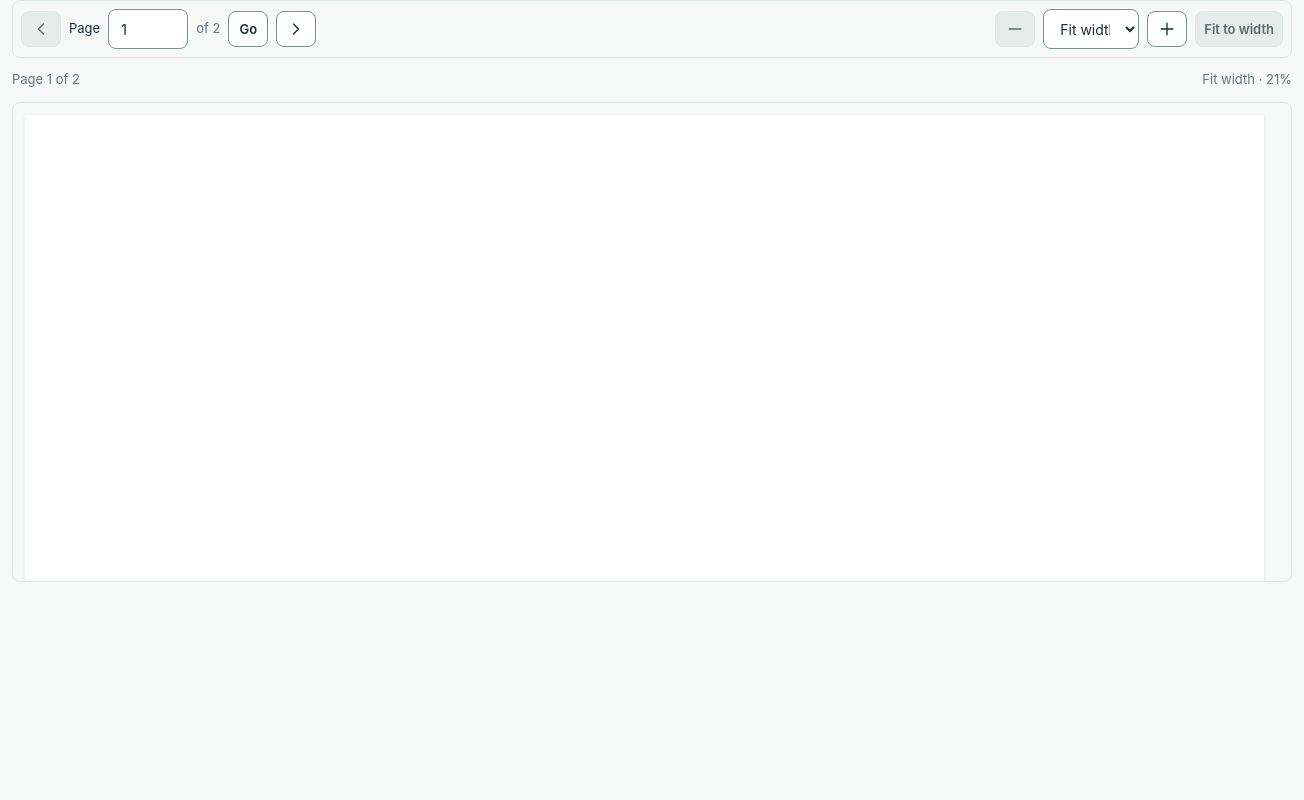
PDF page reader › keeps bitmap dimensions bounded at 200% visual zoom on a large page
Select "200%" in the dropdown named "Zoom level" at (1091, 29), box left=1043, top=9, right=1139, bottom=49
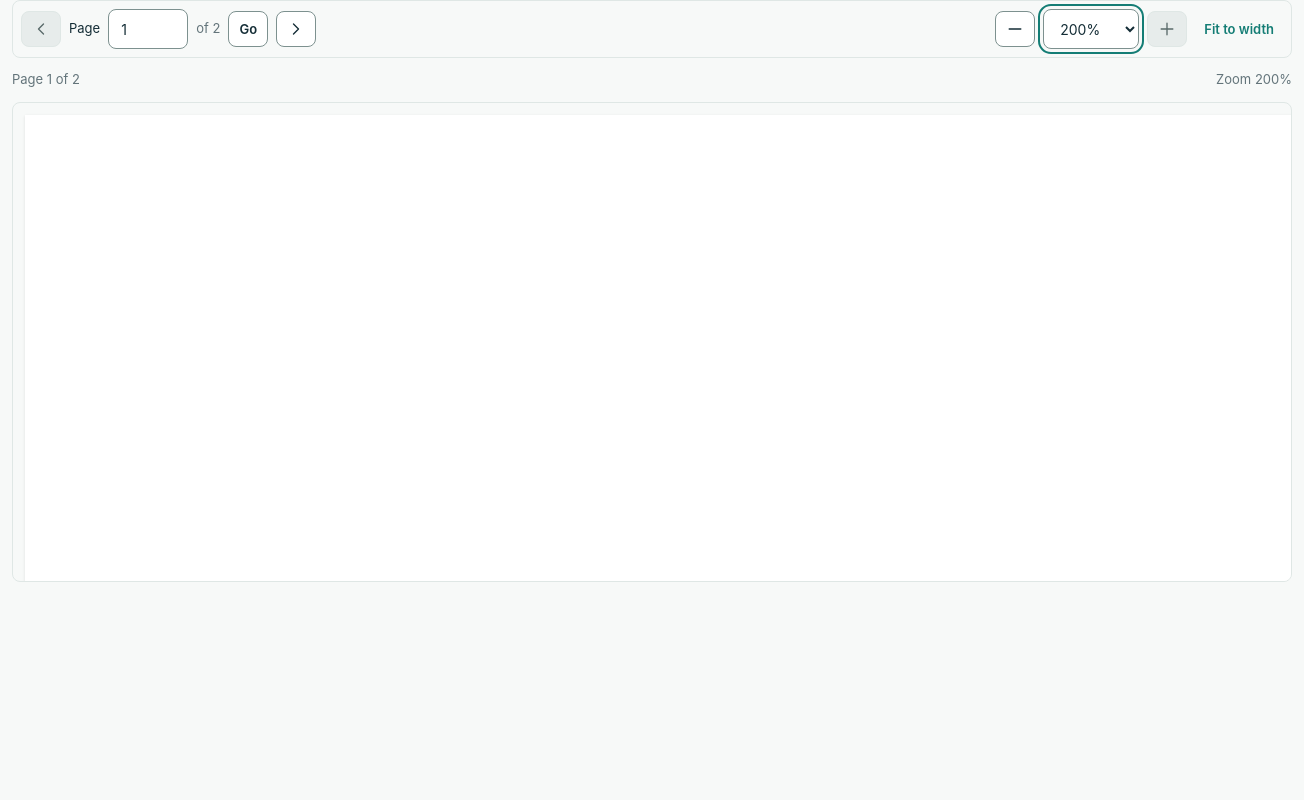
Expected: the text "Zoom 200%" is shown, left=1216, top=70, right=1292, bottom=90
Expected: the button named "Zoom in" is disabled, left=1147, top=11, right=1187, bottom=47
Select "50%" in the dropdown named "Zoom level" at (1091, 29), box left=1043, top=9, right=1139, bottom=49
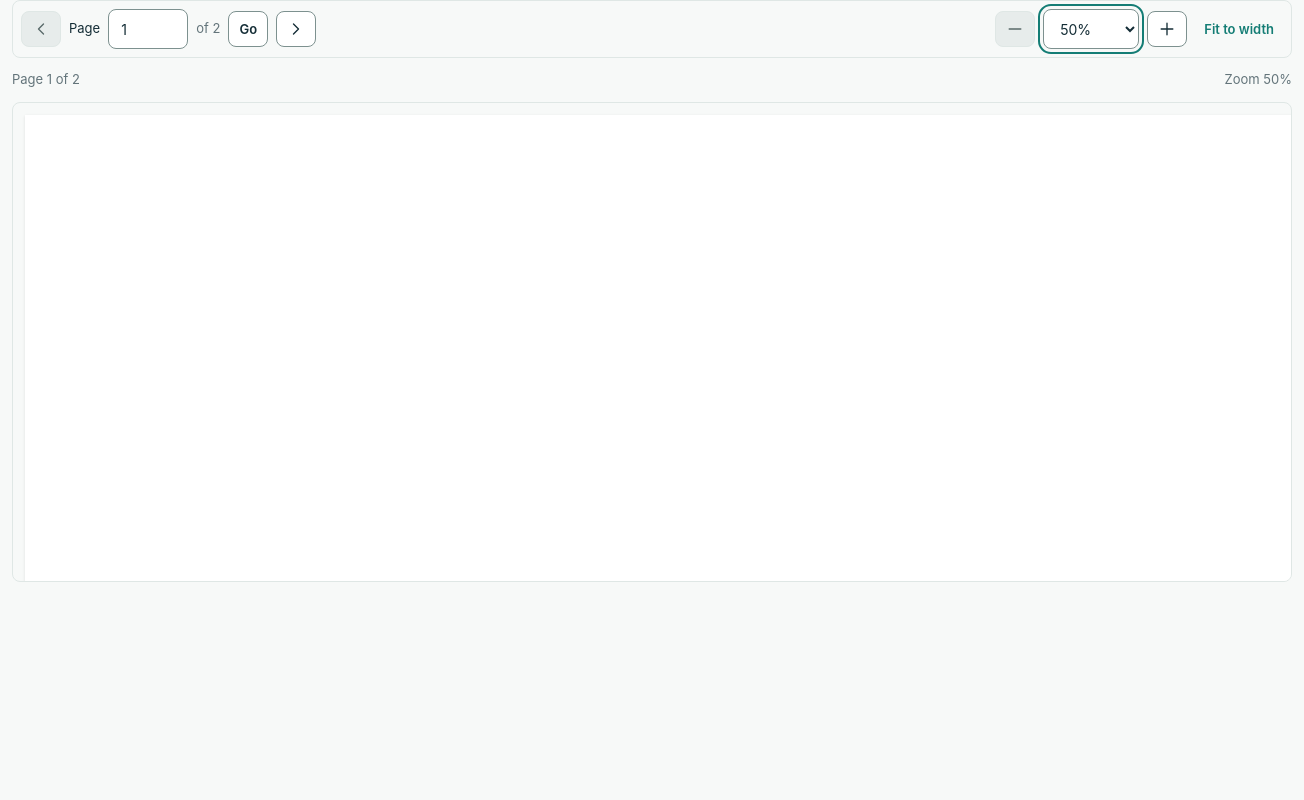
Expected: the button named "Zoom out" is disabled, left=995, top=11, right=1035, bottom=47
Expected: the text "Zoom 50%" is shown, left=1224, top=70, right=1292, bottom=90
